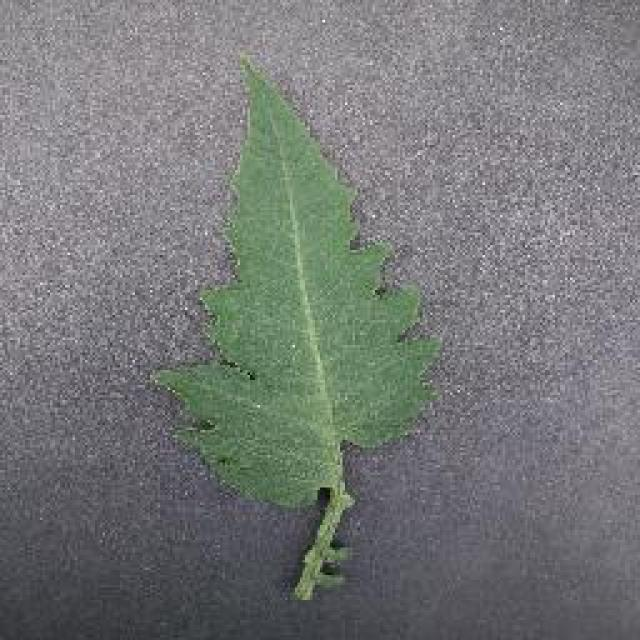Tomato_Healthy: (130, 53, 484, 520)
